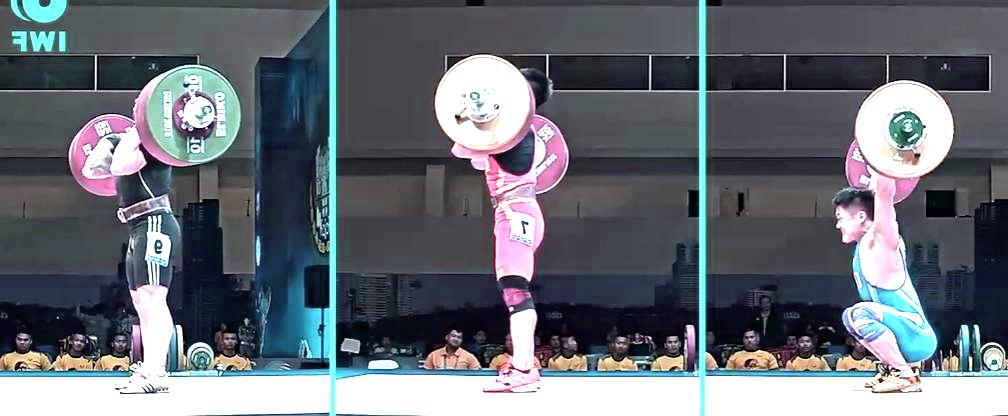Barbell: (896, 112, 918, 138), (193, 101, 218, 121), (462, 88, 485, 106)
